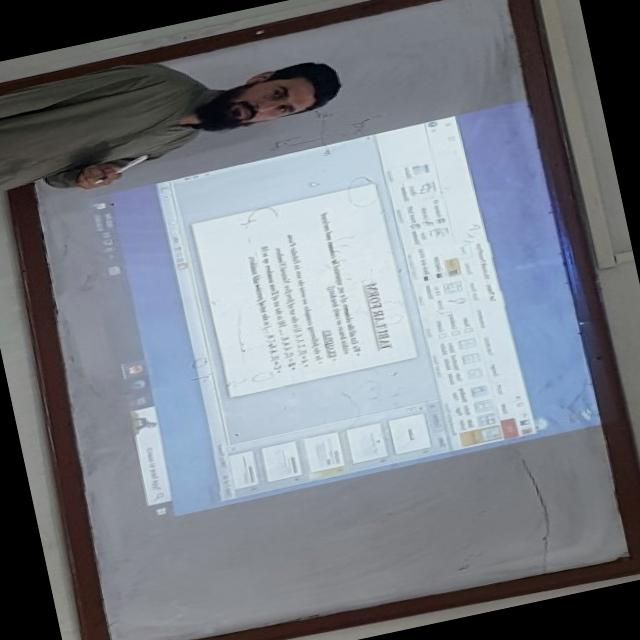Instructor: (0, 21, 373, 205)
Slide: (76, 99, 619, 524)
White-board: (6, 0, 640, 640)
